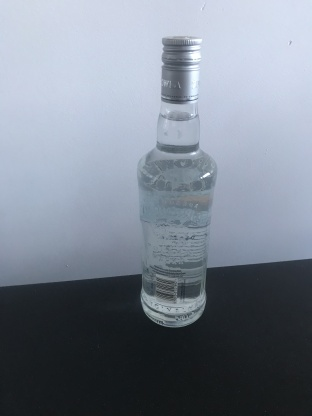nakretka: (158, 33, 203, 107)
